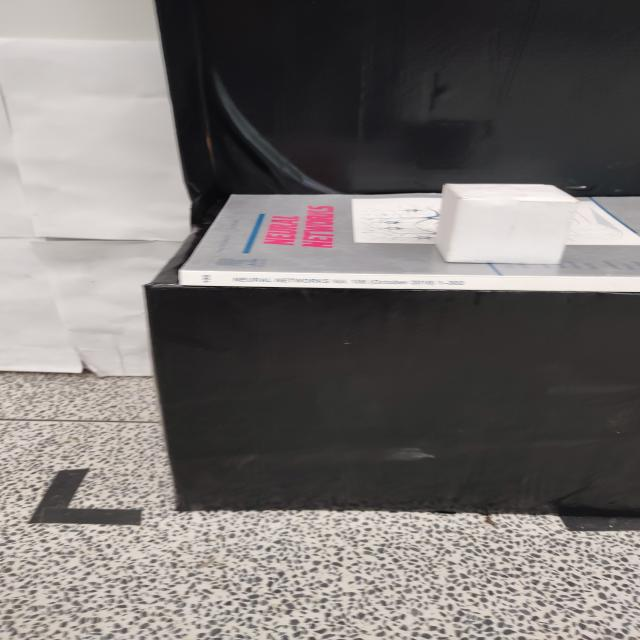bale: (431, 181, 588, 267)
